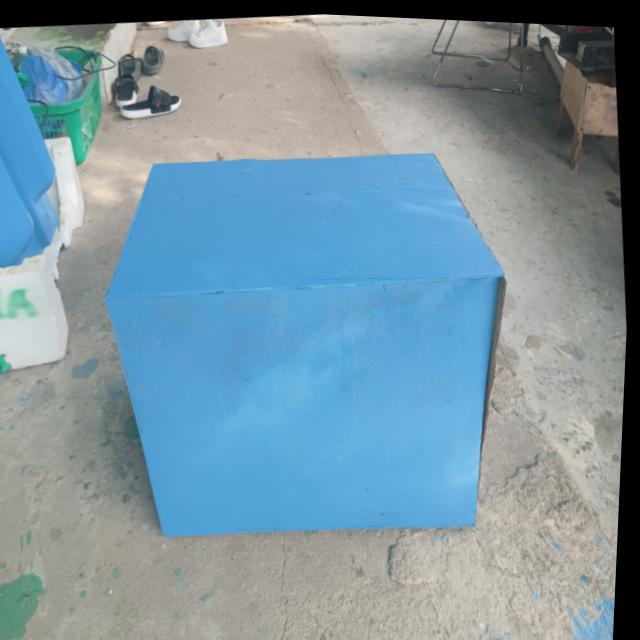blue_box: (81, 89, 541, 560)
